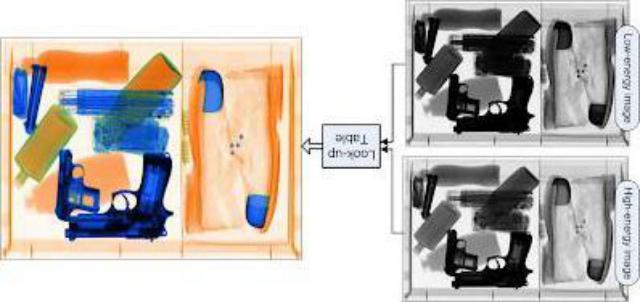Gun: (58, 148, 174, 238), (448, 71, 536, 130), (448, 226, 532, 286), (49, 144, 99, 218), (442, 71, 480, 116), (439, 225, 477, 270)
